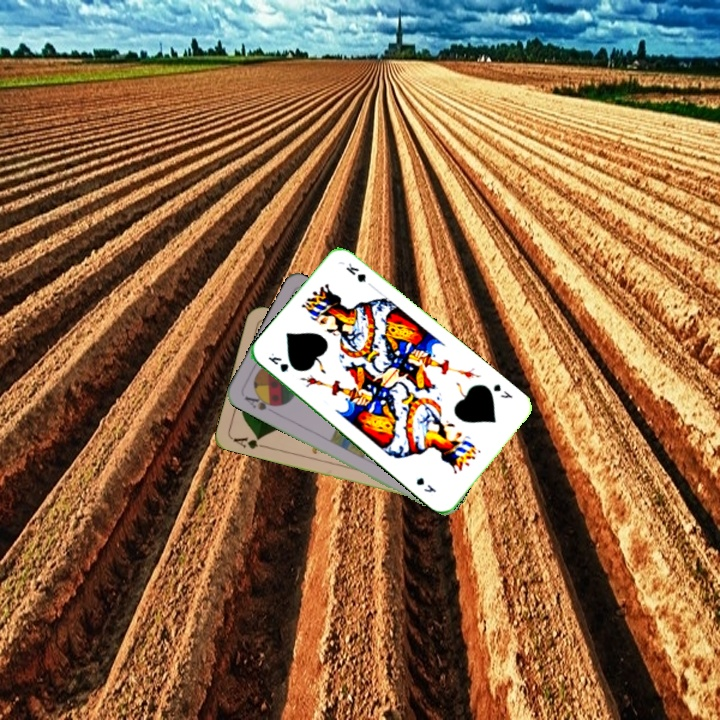GA: (229, 433, 269, 452)
GK: (264, 348, 291, 375), (489, 380, 515, 401)
SA: (240, 390, 280, 413)
